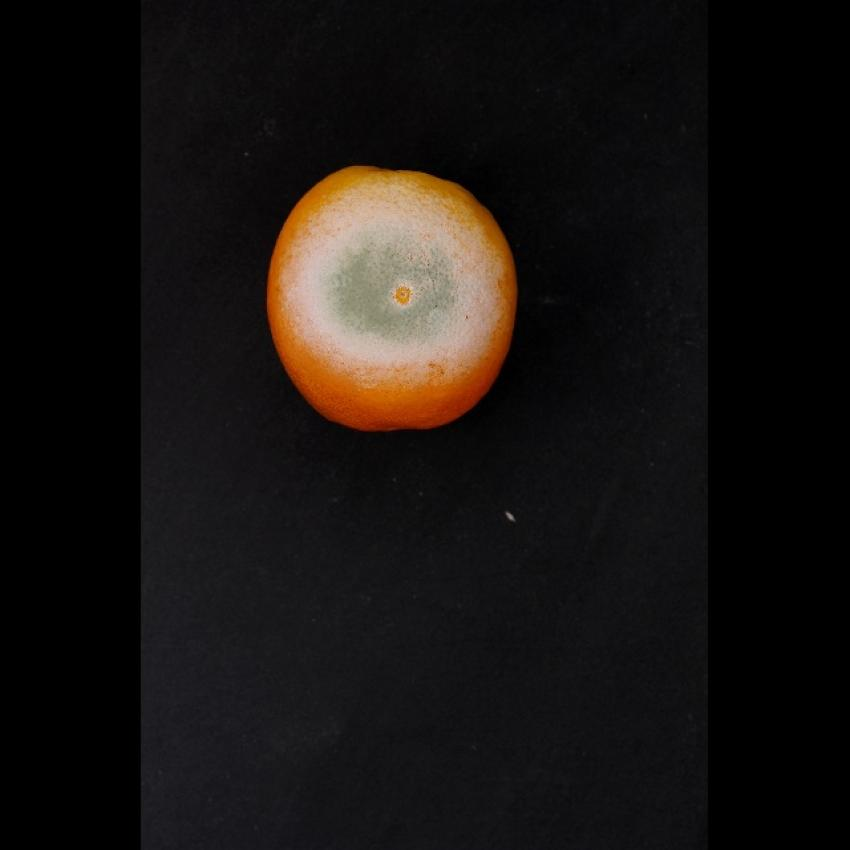Mal estado: (258, 146, 526, 452)
